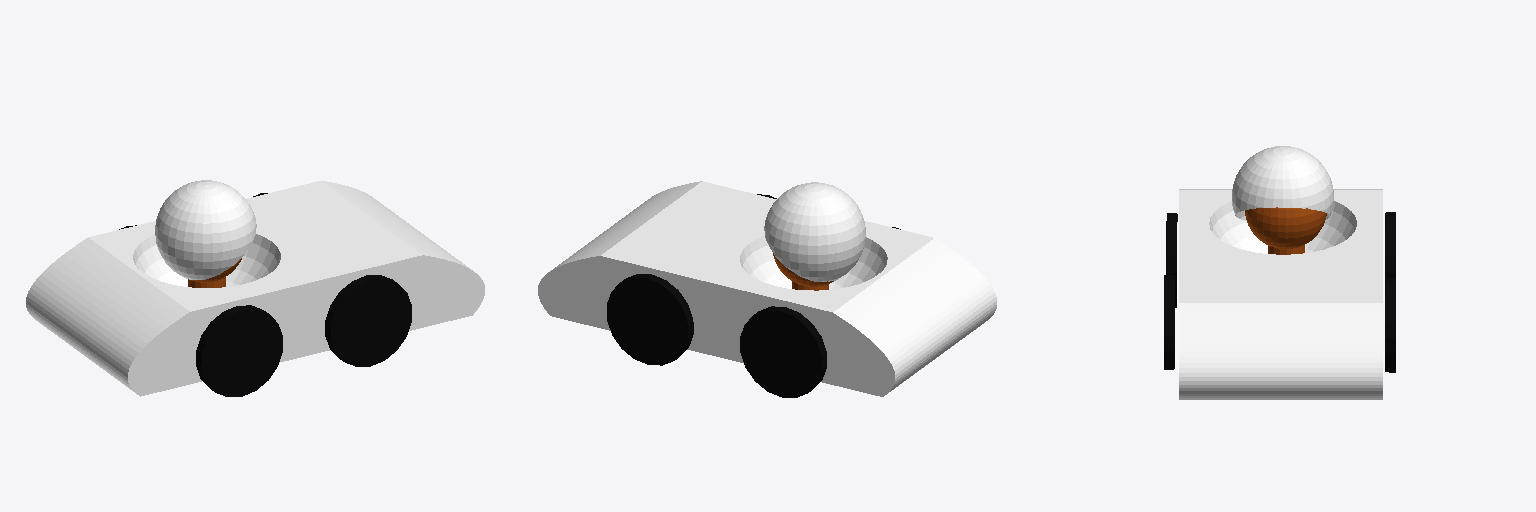
File: car.obj
3 views of the same model, side by side, from view 1: azimuth 30°, elevation 25°; view 2: azimuth 150°, elevation 25°; view 3: azimuth 270°, elevation 25° (orthographic).
Visible parts, largest first — view 1: Box001, Sphere002, Cylinder002, Cylinder001; view 2: Box001, Sphere002, Cylinder004, Cylinder003; view 3: Box001, Sphere002, Sphere001, Cylinder002, Cylinder003, Cylinder001, Cylinder004.
Part boxes in pixels (bbox=[...]): Box001: bbox=[26, 181, 484, 396]; Sphere002: bbox=[155, 180, 256, 279]; Cylinder002: bbox=[325, 275, 411, 366]; Cylinder001: bbox=[196, 305, 282, 396]; Box001: bbox=[538, 181, 996, 396]; Sphere002: bbox=[764, 182, 865, 281]; Cylinder004: bbox=[740, 306, 826, 397]; Cylinder003: bbox=[607, 274, 693, 365]; Box001: bbox=[1179, 189, 1382, 399]; Sphere002: bbox=[1232, 146, 1333, 220]; Sphere001: bbox=[1245, 207, 1326, 248]; Cylinder002: bbox=[1164, 275, 1174, 369]; Cylinder003: bbox=[1385, 277, 1395, 372]; Cylinder001: bbox=[1166, 213, 1177, 307]; Cylinder004: bbox=[1385, 212, 1395, 277].
Bounding box in the file's own units: 64.92 × 28.37 × 36.57.